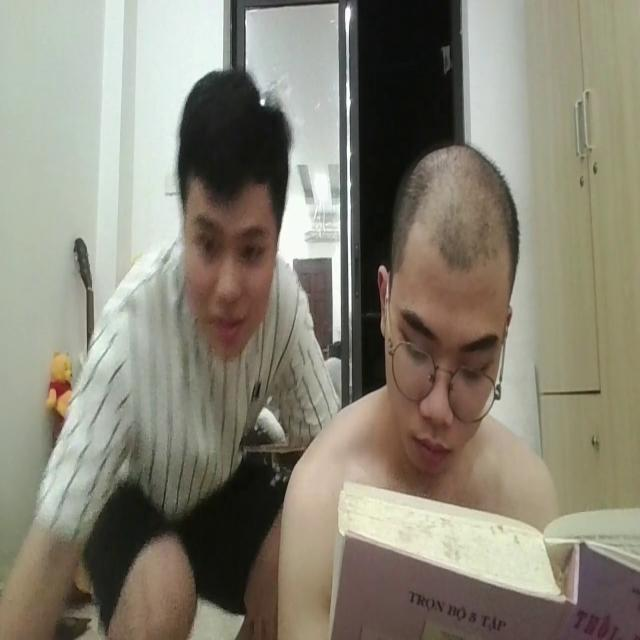book: (331, 458, 640, 640)
extra_person: (11, 54, 349, 640)
student: (279, 134, 580, 640)
